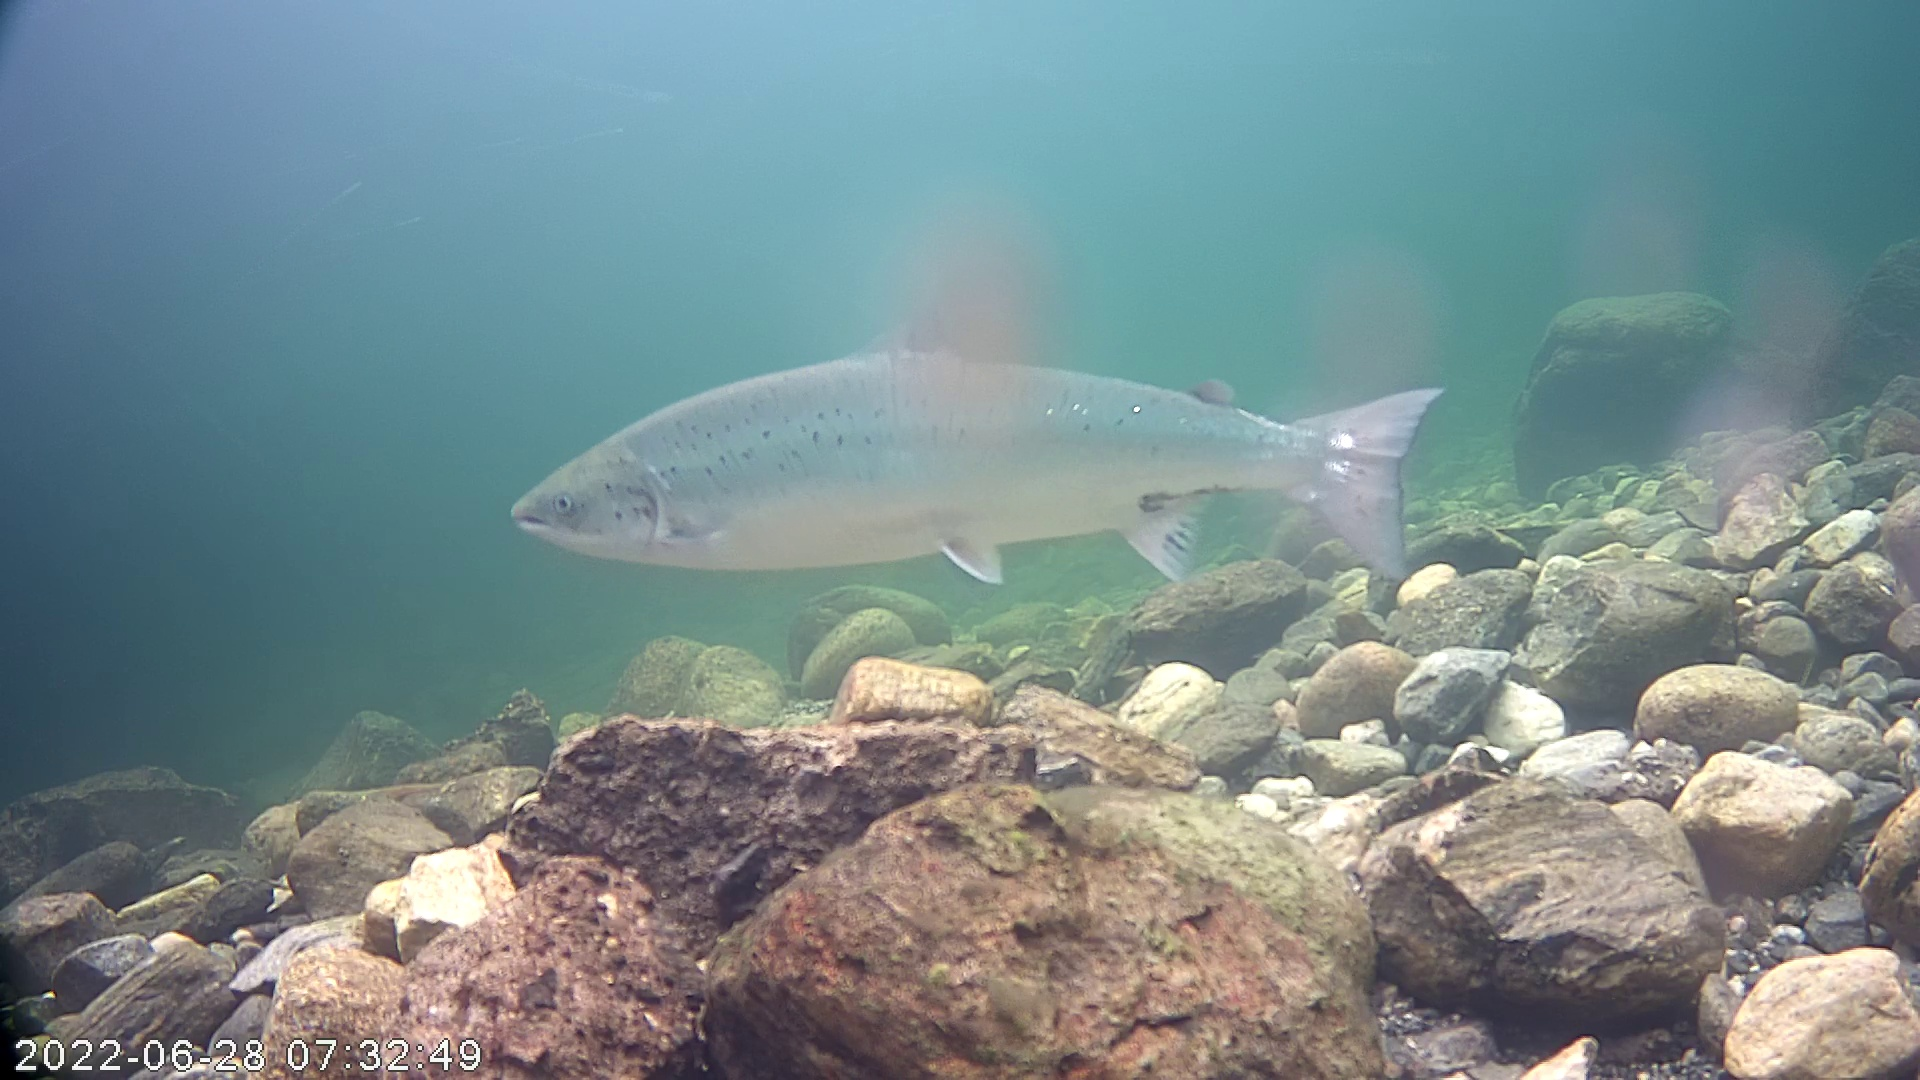salmon: (506, 208, 1465, 640)
